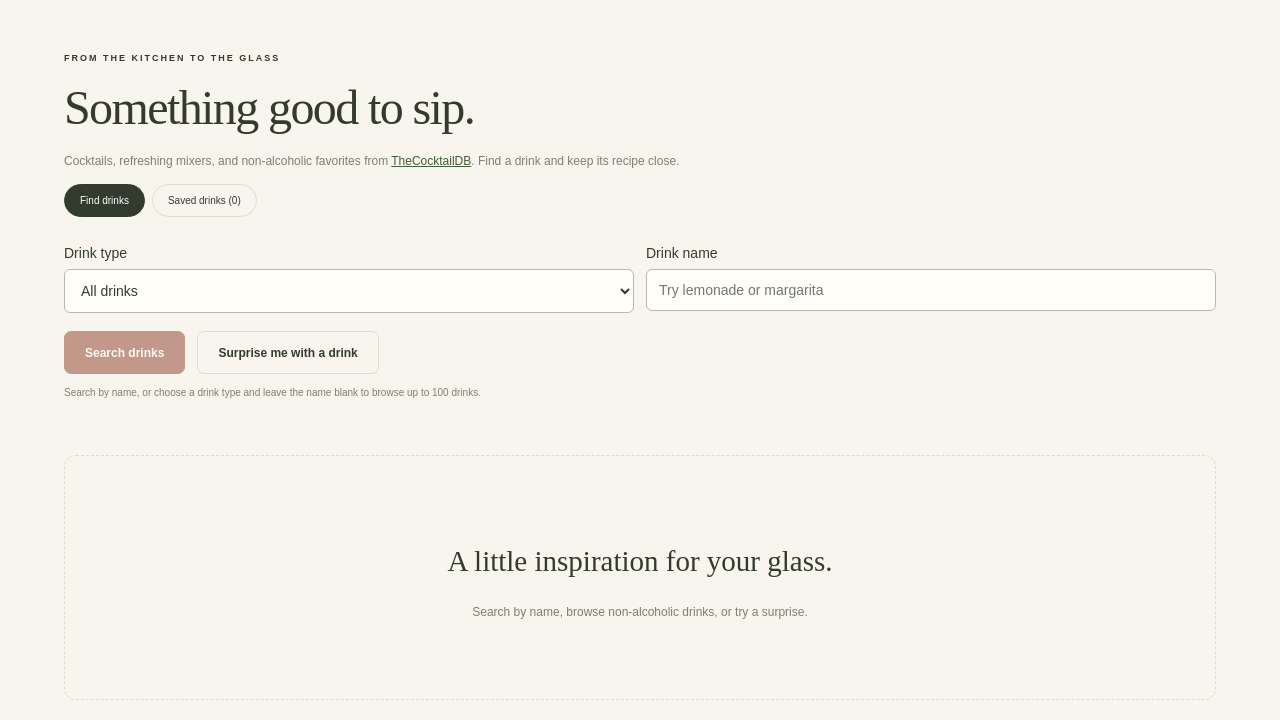
non-alcoholic browse passes the filter and hides unrestricted random
The width and height of the screenshot is (1280, 720).
Select "Non-alcoholic" in the dropdown labelled "Drink type" at (349, 291), box [64,269,634,313]
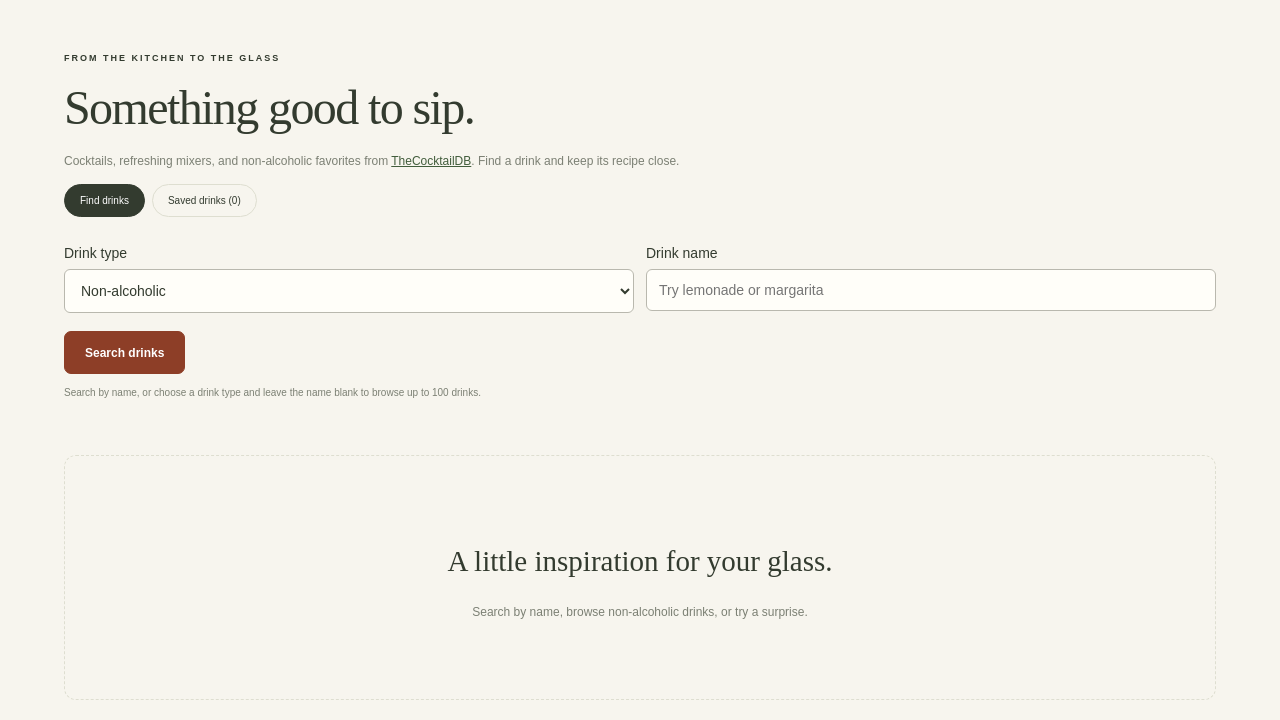
Result: the button "Surprise me with a drink" is gone
Click the button "Search drinks".
click(125, 352)  # box [64,331,185,374]
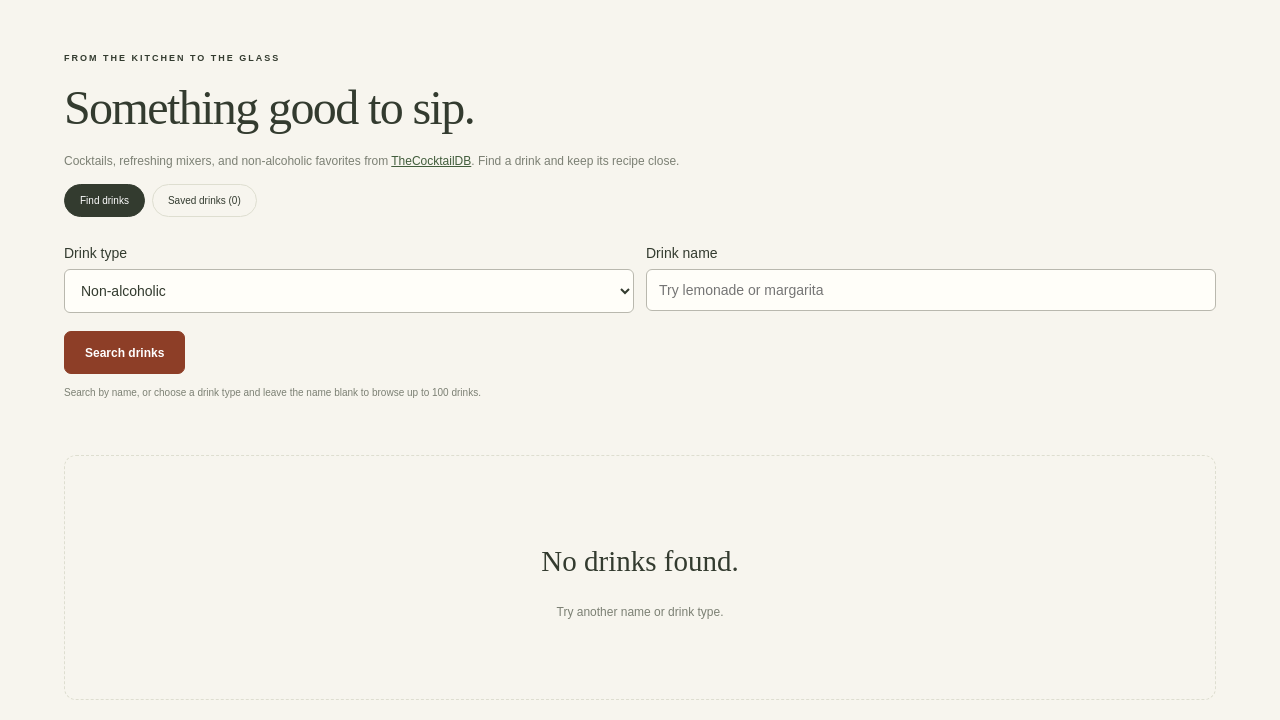
Result: the heading "No drinks found." is shown at [541,545,739,577]
